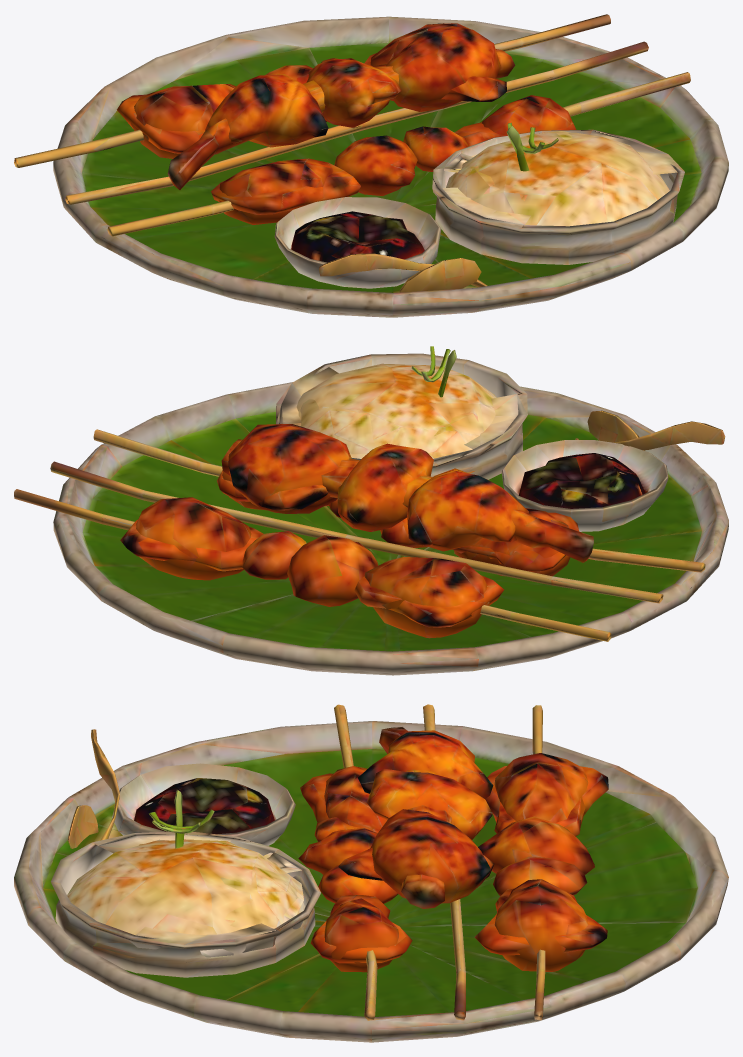
Rendered from inasal.glb.
The picture shows the model from 3 angles, top to bottom: view 1: azimuth 30°, elevation 25°; view 2: azimuth 150°, elevation 25°; view 3: azimuth 270°, elevation 25°; orthographic projection. The views are drawn at different scales.
Visible parts, largest first — view 1: geometry_0; view 2: geometry_0; view 3: geometry_0.
Part boxes in pixels (x1,y1,x2,y2): geometry_0: [14, 14, 728, 317]; geometry_0: [14, 346, 728, 675]; geometry_0: [14, 704, 728, 1042].
Size of the model in its own units: 1 by 0.2688 by 0.989.
Materials: 1 (1 with a texture image).
